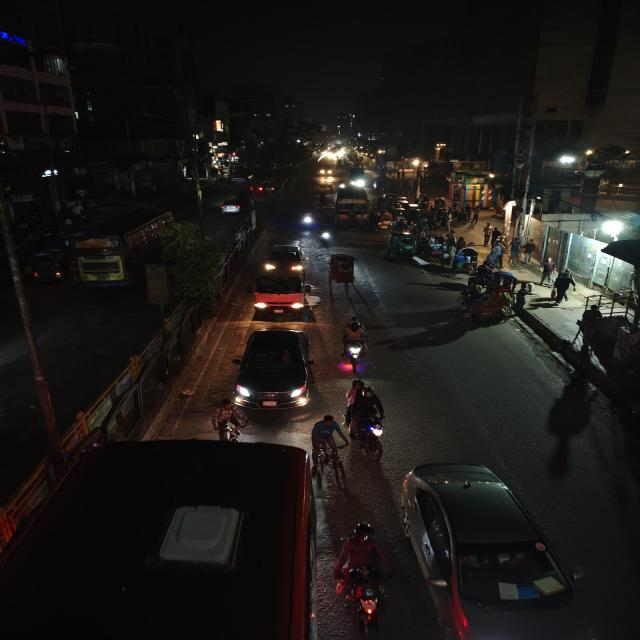bicycle: (306, 415, 356, 497), (200, 395, 250, 447)
bus: (0, 436, 323, 640), (67, 205, 184, 289), (332, 185, 368, 228)
car: (394, 456, 609, 640), (235, 324, 317, 414), (262, 245, 314, 277), (220, 198, 246, 215)
cng: (27, 242, 73, 280), (386, 230, 417, 263)
motorcycle: (336, 376, 396, 466), (338, 314, 371, 372), (317, 226, 333, 249), (300, 210, 316, 230)
pedestrian: (555, 268, 573, 305), (538, 254, 554, 288), (521, 238, 539, 266), (510, 236, 522, 267)
pickup_van: (246, 267, 316, 314)
rickshaw: (460, 283, 508, 324), (453, 245, 481, 278), (329, 254, 355, 284), (376, 210, 394, 232)
